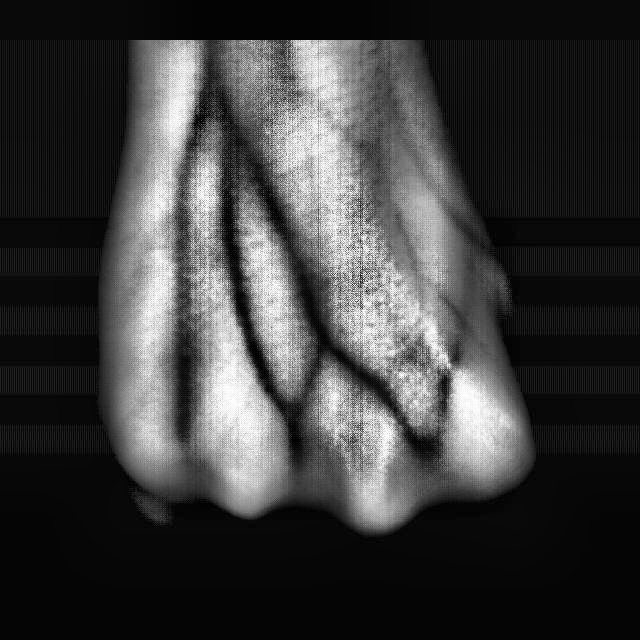Vein: (244, 165, 333, 339), (212, 184, 273, 381), (165, 149, 200, 347)
